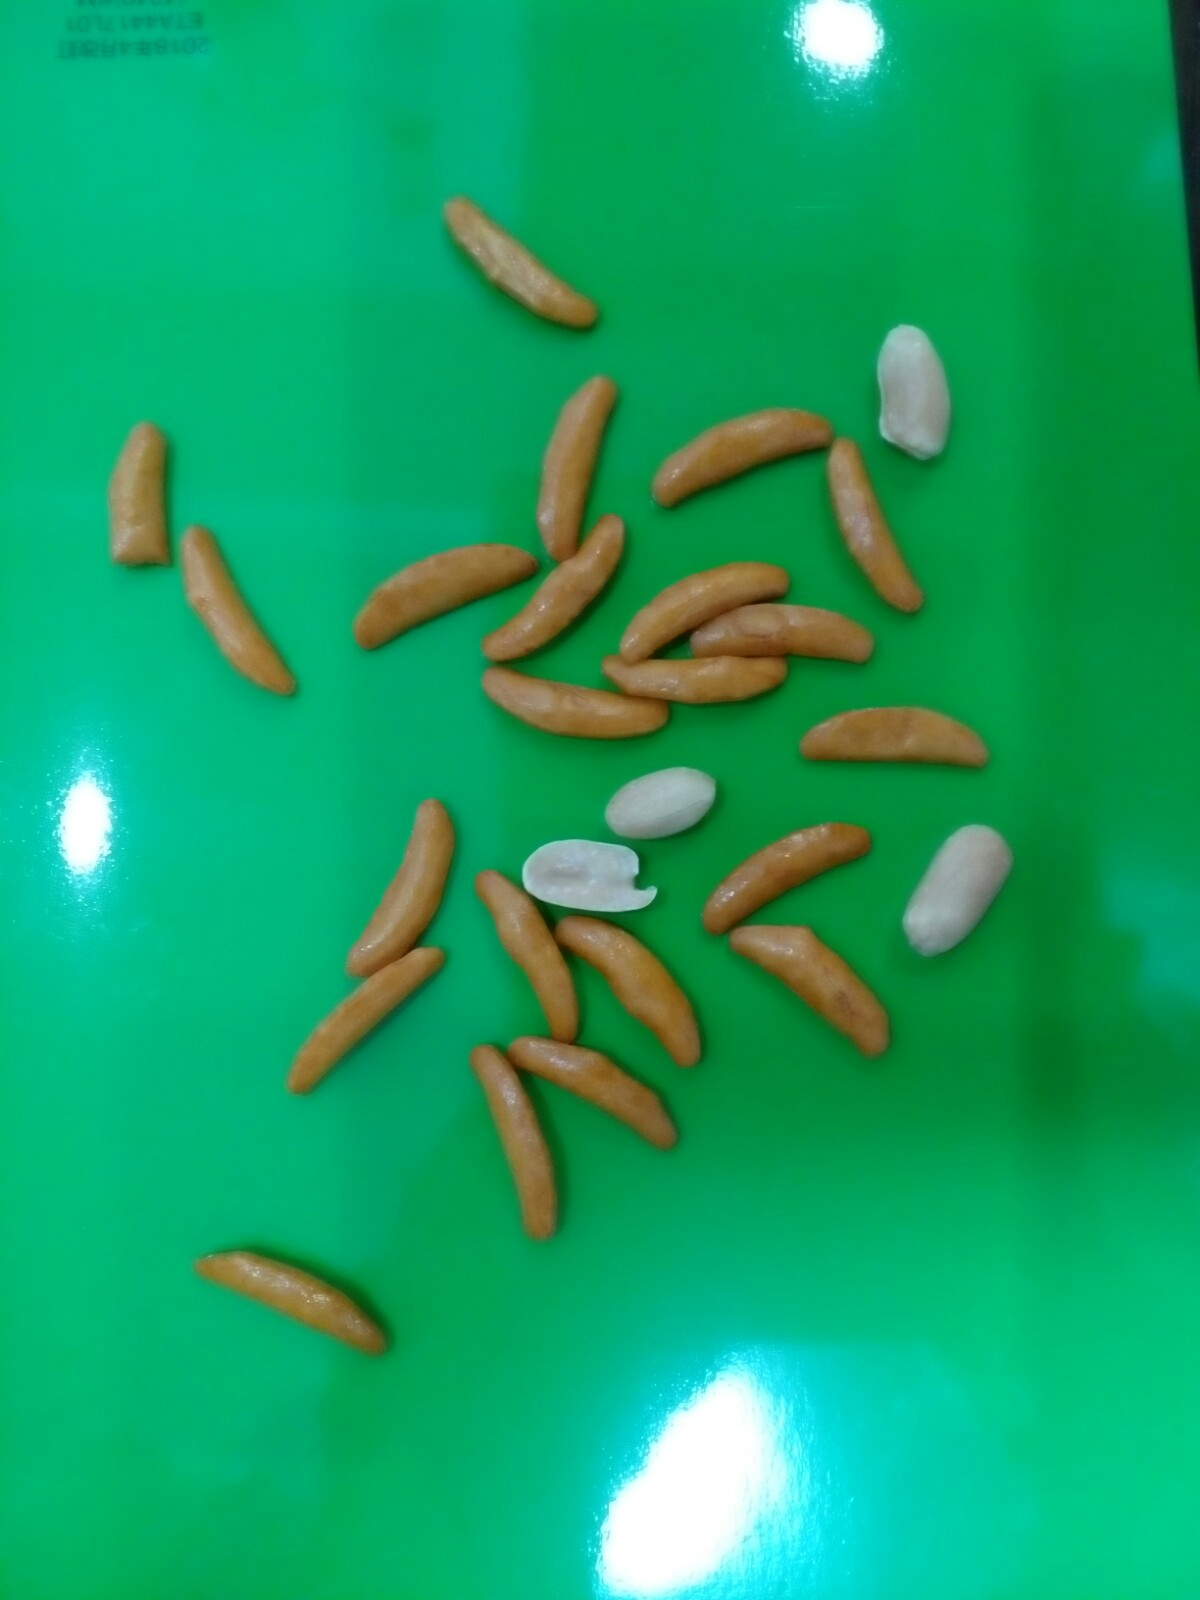peanut: (901, 813, 1022, 973), (871, 316, 962, 472), (521, 831, 667, 916), (605, 753, 722, 844)
